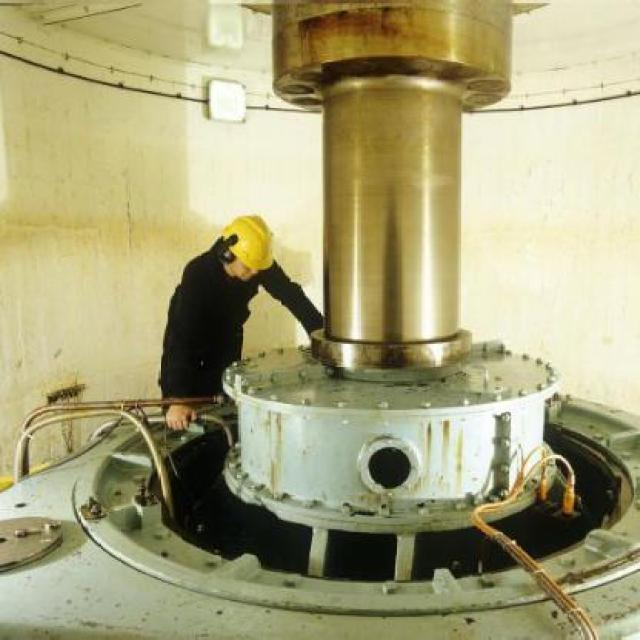helmet: (208, 211, 282, 284)
